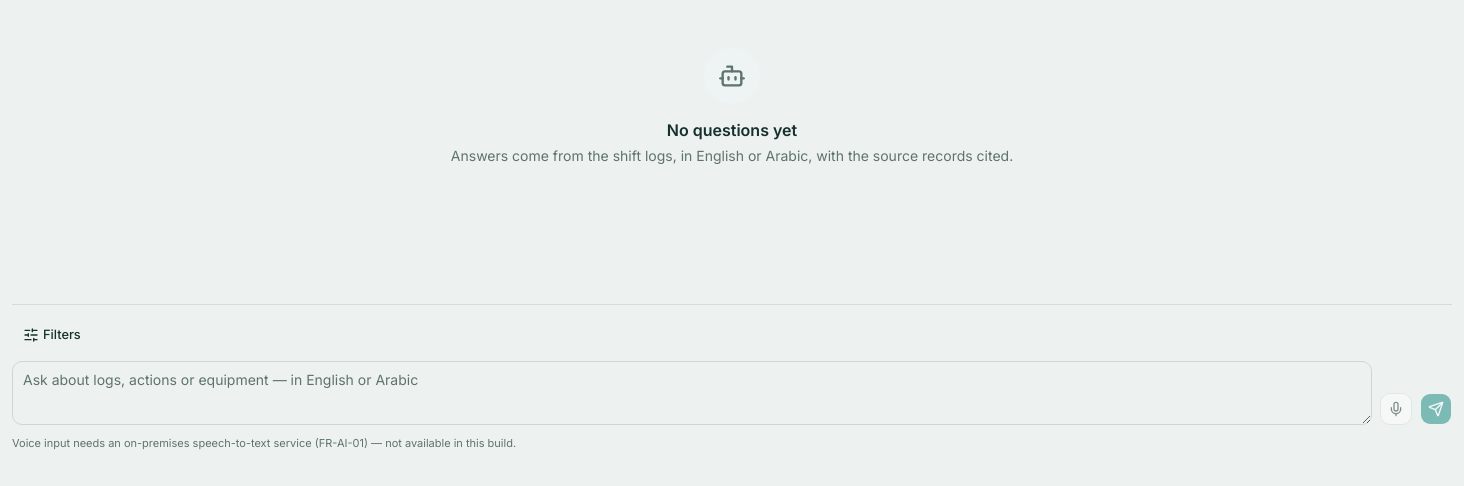
Test: AssistantChat › asks a question and renders the answer through the real Zod boundary
The width and height of the screenshot is (1464, 486).
Type "What happened on B-train last night?" into the text box named "Ask the assistant" at (692, 393), box 12,361 -> 1372,425
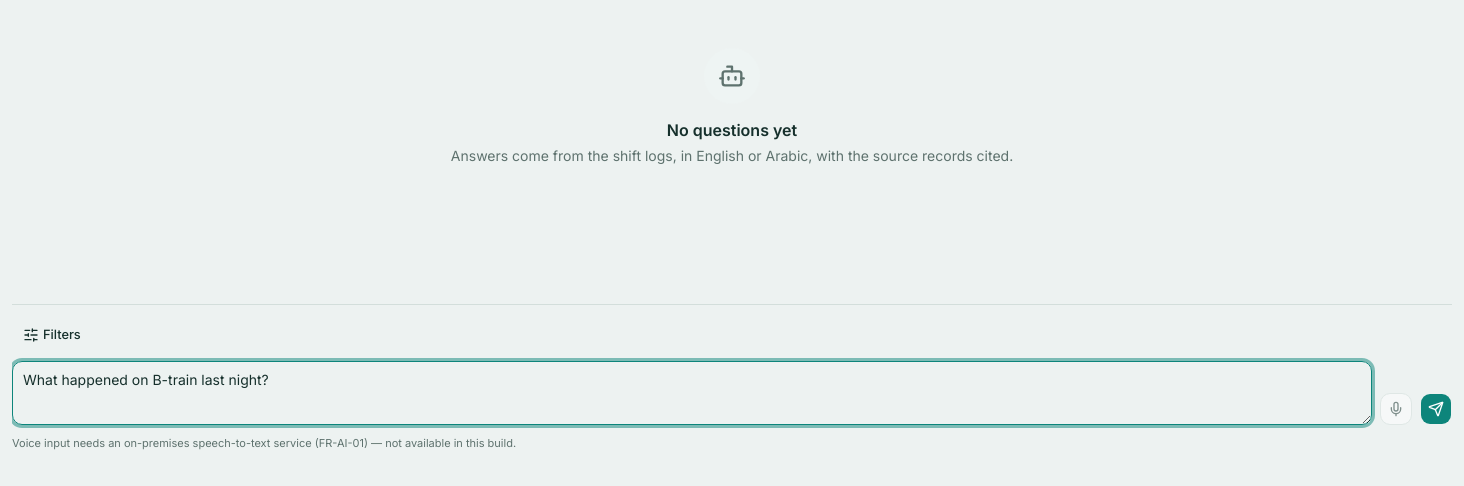
Click the button named "Send question" at (1436, 409), box 1420,393 -> 1452,425
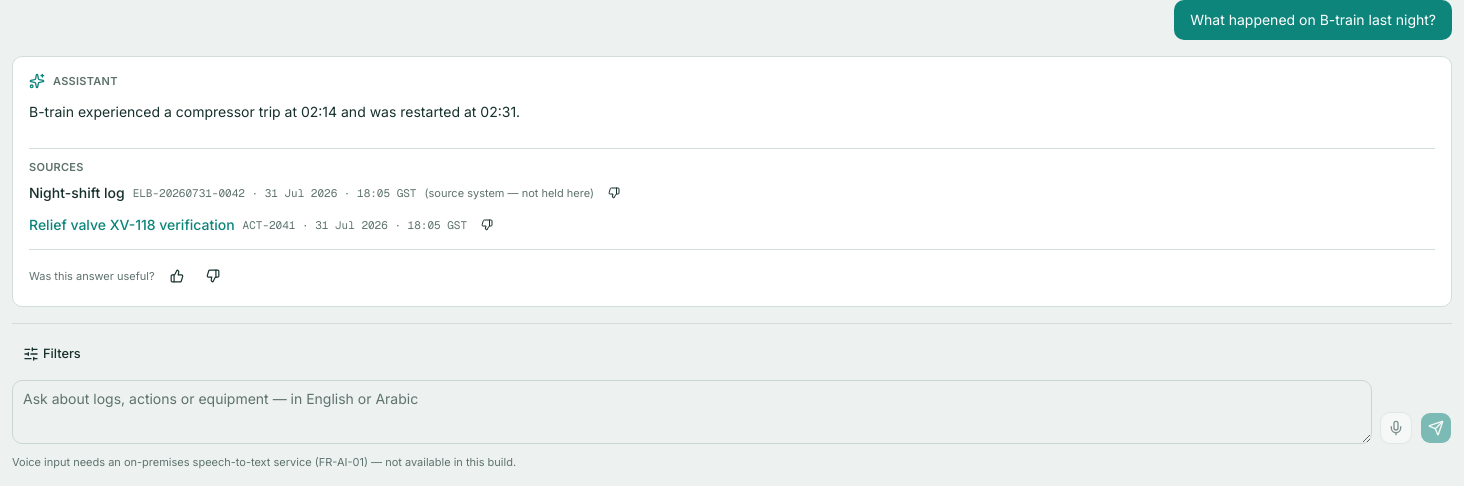
Check: the text "compressor trip at 02:14" is shown, box 29,103 -> 520,120
Check: the text "What happened on B-train last night?" is shown, box 1174,0 -> 1452,40
